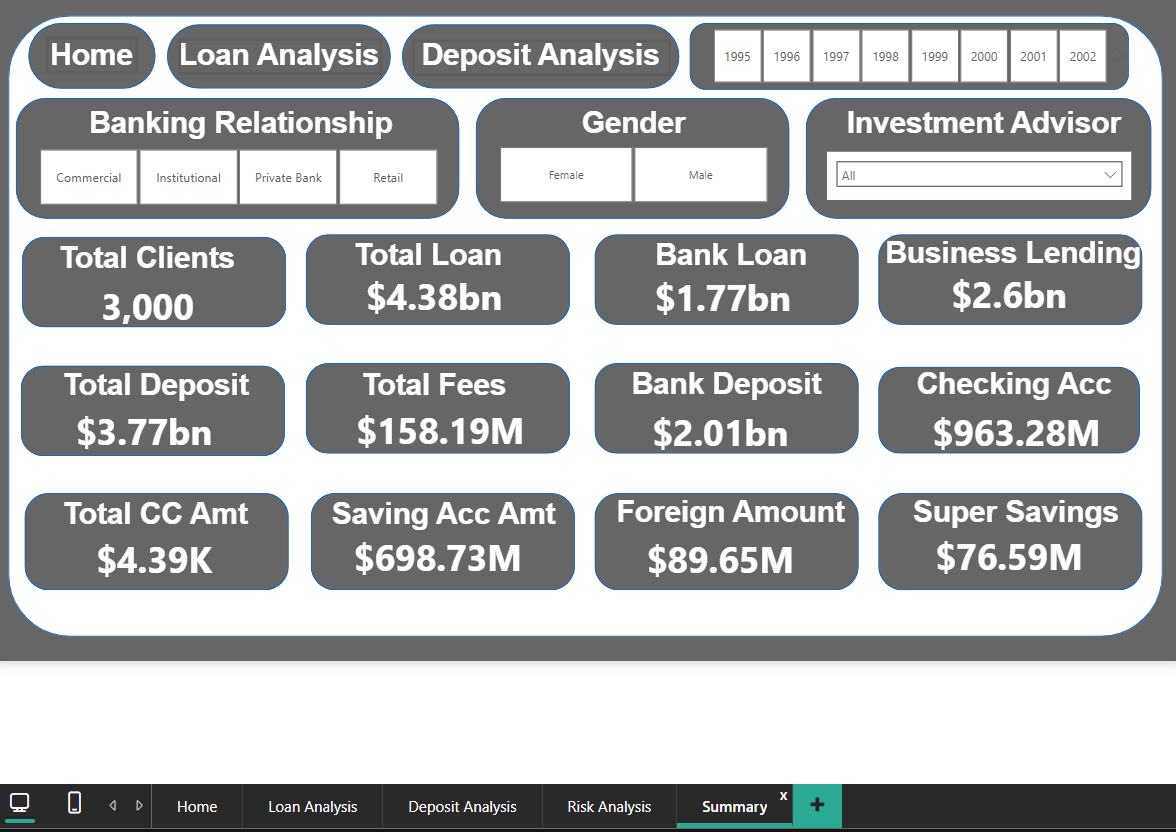

This screenshot's page, from the dashboard's own definition file:
{"tool":"powerbi","page":{"name":"Summary","canvas":[1280,720],"ordinal":4},"visuals":[{"type":"shape","box":[17.8,24.7,1244.6,669.6],"z":0},{"type":"shape","box":[189.3,33.2,241.3,69.4],"z":1000},{"type":"textbox","box":[189.3,44.8,241.3,65],"z":2000},{"type":"shape","box":[442.2,33.2,299.1,69.4],"z":3000},{"type":"textbox","box":[442.2,44.8,299.1,72.3],"z":4000},{"type":"shape","box":[39,31.8,137.3,70.8],"z":5000},{"type":"textbox","box":[46.2,44.8,122.8,78],"z":6000},{"type":"shape","box":[751.4,31.8,474,72.3],"z":7000},{"type":"shape","box":[521.7,112.7,338.1,130.1],"z":8000},{"type":"shape","box":[31.2,401.2,285,97.8],"z":9000},{"type":"shape","box":[649.4,398.4,285,97.8],"z":10000},{"type":"shape","box":[955.6,402.7,282.1,93.6],"z":11000},{"type":"shape","box":[343.1,538.8,285,104.9],"z":12000},{"type":"slicer","fields":{"Values":["Sheet1.Joined Bank.Variation.Date Hierarchy.Year"]},"box":[751.4,31.8,474,70.8],"z":13000},{"type":"slicer","fields":{"Values":["Sheet1.Sex"]},"box":[521.7,159,338.1,73.7],"z":14000},{"type":"textbox","box":[630,117,135.8,62.1],"z":15000},{"type":"textbox","box":[70.9,399.8,231.1,63.8],"z":16000},{"type":"textbox","box":[684.8,398.4,226.9,65.2],"z":17000},{"type":"textbox","box":[992.5,398.4,248.1,70.9],"z":18000},{"type":"card","fields":{"Values":["Measure.Total Deposit"]},"box":[8.5,432.4,311.9,79.4],"z":19000},{"type":"textbox","box":[361.5,538.8,300.6,58.1],"z":20000},{"type":"card","fields":{"Values":["Measure.Checking Accounts"]},"box":[948.5,433.9,311.9,79.4],"z":21000},{"type":"card","fields":{"Values":["Measure.Savings Account"]},"box":[324.7,568.5,311.9,79.4],"z":22000},{"type":"shape","box":[26,112.7,478.3,130.1],"z":23000},{"type":"slicer","fields":{"Values":["Sheet1.Banking Relationship"]},"box":[26,161.8,478.3,73.7],"z":24000},{"type":"textbox","box":[99.7,117,404.6,78],"z":25000},{"type":"shape","box":[877.1,112.7,372.8,130.1],"z":26000},{"type":"textbox","box":[916.1,117,325.1,59.2],"z":27000},{"type":"slicer","fields":{"Values":["investment-advisiors.Investment Advisor"]},"box":[900.3,170.5,328,52],"z":28000},{"type":"card","fields":{"Values":["Measure.Bank Deposit"]},"box":[629.5,433.9,311.9,79.4],"z":29000},{"type":"actionButton","box":[58.3,47.4,99.6,40.1],"z":30000},{"type":"shape","box":[35.4,538.8,285,104.9],"z":31000},{"type":"shape","box":[649.4,538.8,285,104.9],"z":32000},{"type":"shape","box":[955.6,538.8,285,104.9],"z":33000},{"type":"textbox","box":[70.9,538.8,299.2,61],"z":34000},{"type":"card","fields":{"Values":["Measure.Total CC Amount"]},"box":[18.4,570,311.9,79.4],"z":35000},{"type":"shape","box":[32.6,262.3,285,97.8],"z":36000},{"type":"textbox","box":[68.1,262.3,262.3,46.8],"z":37000},{"type":"card","fields":{"Values":["Measure.Total Clients"]},"box":[12.8,297.7,311.9,79.4],"z":38000},{"type":"shape","box":[338.9,259.5,285,97.8],"z":39000},{"type":"shape","box":[649.4,259.5,285,97.8],"z":40000},{"type":"shape","box":[955.6,259.5,285,97.8],"z":41000},{"type":"shape","box":[338.9,398.4,285,97.8],"z":42000},{"type":"textbox","box":[385.6,259.5,233.9,55.3],"z":43000},{"type":"card","fields":{"Values":["Measure.Total Loan"]},"box":[320.4,286.4,311.9,79.4],"z":44000},{"type":"textbox","box":[394.2,399.8,184.3,76.6],"z":45000},{"type":"card","fields":{"Values":["Measure.Total Fees"]},"box":[327.5,431,311.9,79.4],"z":46000},{"type":"textbox","box":[710.3,259.5,175.8,49.6],"z":47000},{"type":"card","fields":{"Values":["Measure.Bank Loan"]},"box":[632.3,287.8,311.9,79.4],"z":48000},{"type":"textbox","box":[667.8,535.9,266.5,61],"z":49000},{"type":"card","fields":{"Values":["Measure.Foreign Currency Account"]},"box":[629.5,570,311.9,79.4],"z":50000},{"type":"textbox","box":[958.4,258,293.5,69.5],"z":51000},{"type":"card","fields":{"Values":["Measure.Business Lending"]},"box":[940,285,311.9,79.4],"z":52000},{"type":"textbox","box":[988.2,535.9,269.4,55.3],"z":53000},{"type":"card","fields":{"Values":["Measure.Super Savings Account"]},"box":[940,567.1,311.9,79.4],"z":54000},{"type":"actionButton","box":[201.3,48.2,219.8,39.7],"z":55000},{"type":"actionButton","box":[452.3,49.6,279.3,39.7],"z":56000}]}

Visuals, with their boxes on the page's 1280x720 design canvas (x1, y1, x2, y2). These are canvas units, not pixel positions in the 1176x832 screenshot, which may show the page scaled, cropped or inside an application window:
shape: [x1=18, y1=25, x2=1262, y2=694]
shape: [x1=189, y1=33, x2=431, y2=103]
textbox: [x1=189, y1=45, x2=431, y2=110]
shape: [x1=442, y1=33, x2=741, y2=103]
textbox: [x1=442, y1=45, x2=741, y2=117]
shape: [x1=39, y1=32, x2=176, y2=103]
textbox: [x1=46, y1=45, x2=169, y2=123]
shape: [x1=751, y1=32, x2=1225, y2=104]
shape: [x1=522, y1=113, x2=860, y2=243]
shape: [x1=31, y1=401, x2=316, y2=499]
shape: [x1=649, y1=398, x2=934, y2=496]
shape: [x1=956, y1=403, x2=1238, y2=496]
shape: [x1=343, y1=539, x2=628, y2=644]
slicer - Sheet1.Joined Bank.Variation.Date Hierarchy.Year: [x1=751, y1=32, x2=1225, y2=103]
slicer - Sheet1.Sex: [x1=522, y1=159, x2=860, y2=233]
textbox: [x1=630, y1=117, x2=766, y2=179]
textbox: [x1=71, y1=400, x2=302, y2=464]
textbox: [x1=685, y1=398, x2=912, y2=464]
textbox: [x1=992, y1=398, x2=1241, y2=469]
card - Measure.Total Deposit: [x1=8, y1=432, x2=320, y2=512]
textbox: [x1=362, y1=539, x2=662, y2=597]
card - Measure.Checking Accounts: [x1=948, y1=434, x2=1260, y2=513]
card - Measure.Savings Account: [x1=325, y1=568, x2=637, y2=648]
shape: [x1=26, y1=113, x2=504, y2=243]
slicer - Sheet1.Banking Relationship: [x1=26, y1=162, x2=504, y2=236]
textbox: [x1=100, y1=117, x2=504, y2=195]
shape: [x1=877, y1=113, x2=1250, y2=243]
textbox: [x1=916, y1=117, x2=1241, y2=176]
slicer - investment-advisiors.Investment Advisor: [x1=900, y1=170, x2=1228, y2=222]
card - Measure.Bank Deposit: [x1=630, y1=434, x2=941, y2=513]
actionButton: [x1=58, y1=47, x2=158, y2=88]
shape: [x1=35, y1=539, x2=320, y2=644]
shape: [x1=649, y1=539, x2=934, y2=644]
shape: [x1=956, y1=539, x2=1241, y2=644]
textbox: [x1=71, y1=539, x2=370, y2=600]
card - Measure.Total CC Amount: [x1=18, y1=570, x2=330, y2=649]
shape: [x1=33, y1=262, x2=318, y2=360]
textbox: [x1=68, y1=262, x2=330, y2=309]
card - Measure.Total Clients: [x1=13, y1=298, x2=325, y2=377]
shape: [x1=339, y1=260, x2=624, y2=357]
shape: [x1=649, y1=260, x2=934, y2=357]
shape: [x1=956, y1=260, x2=1241, y2=357]
shape: [x1=339, y1=398, x2=624, y2=496]
textbox: [x1=386, y1=260, x2=620, y2=315]
card - Measure.Total Loan: [x1=320, y1=286, x2=632, y2=366]
textbox: [x1=394, y1=400, x2=578, y2=476]
card - Measure.Total Fees: [x1=328, y1=431, x2=639, y2=510]
textbox: [x1=710, y1=260, x2=886, y2=309]
card - Measure.Bank Loan: [x1=632, y1=288, x2=944, y2=367]
textbox: [x1=668, y1=536, x2=934, y2=597]
card - Measure.Foreign Currency Account: [x1=630, y1=570, x2=941, y2=649]
textbox: [x1=958, y1=258, x2=1252, y2=328]
card - Measure.Business Lending: [x1=940, y1=285, x2=1252, y2=364]
textbox: [x1=988, y1=536, x2=1258, y2=591]
card - Measure.Super Savings Account: [x1=940, y1=567, x2=1252, y2=646]
actionButton: [x1=201, y1=48, x2=421, y2=88]
actionButton: [x1=452, y1=50, x2=732, y2=89]
